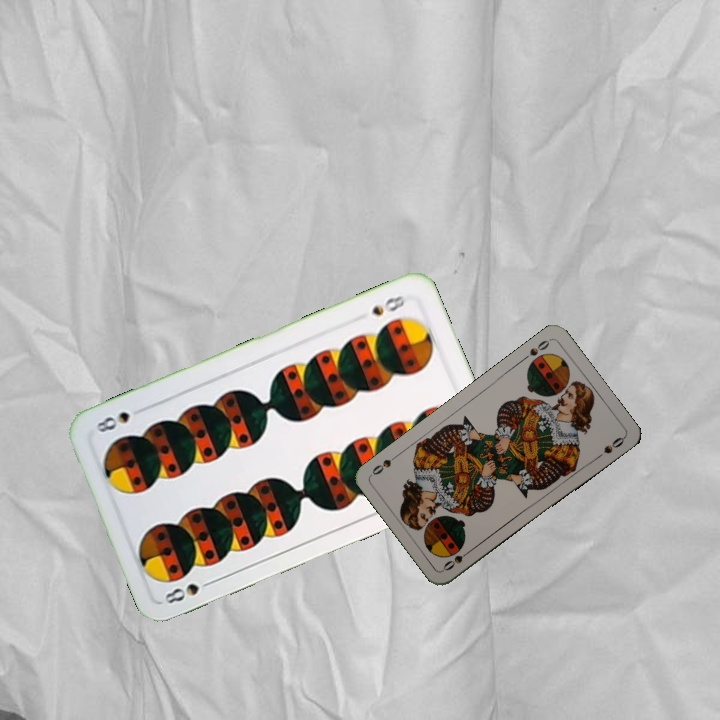S8: (160, 575, 217, 607), (367, 291, 407, 319)
SO: (518, 335, 553, 364), (439, 545, 475, 573)
